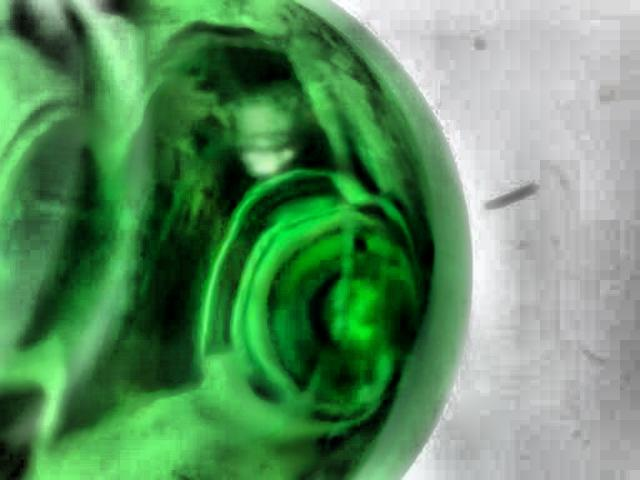Bottles: (0, 0, 492, 480)
